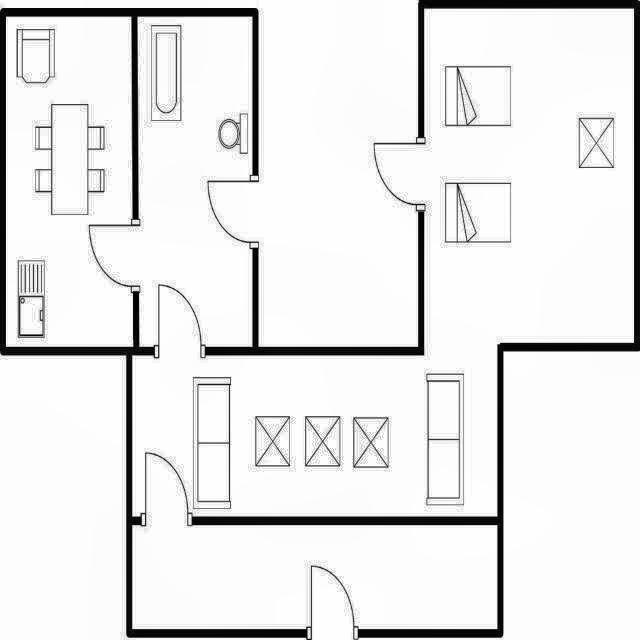room: (132, 8, 634, 516), (6, 17, 133, 347), (132, 525, 497, 629), (139, 17, 252, 347)
